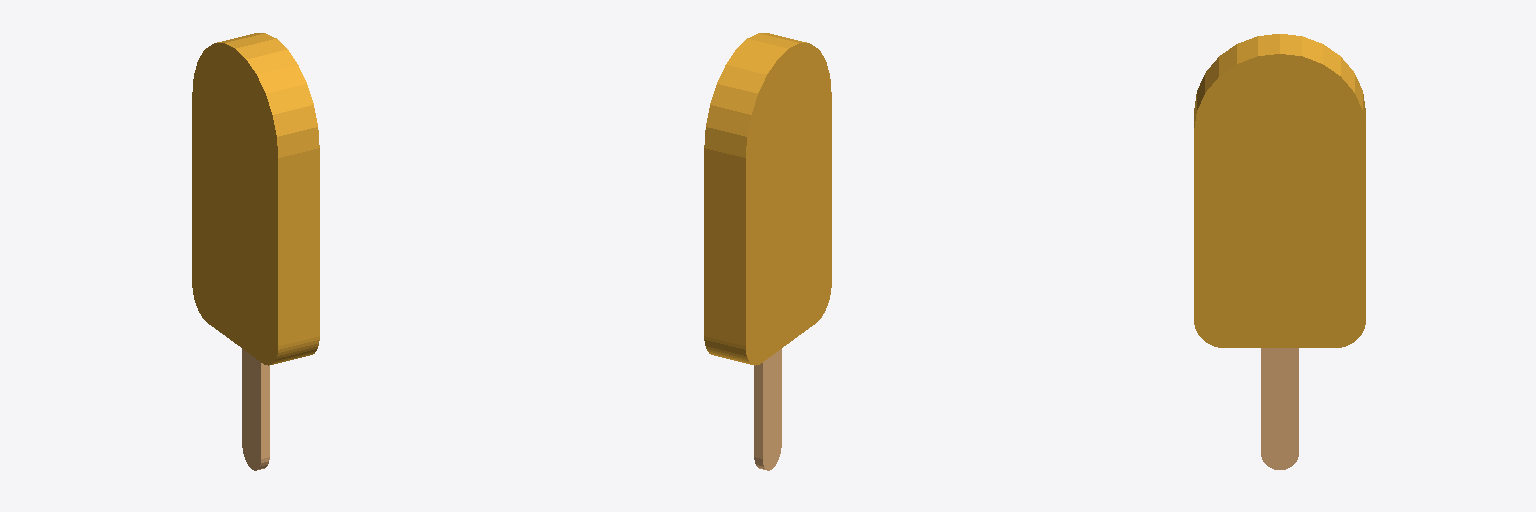
The model's file is popsicle.obj.
The picture shows the model from 3 angles: view 1: azimuth 30°, elevation 25°; view 2: azimuth 150°, elevation 25°; view 3: azimuth 270°, elevation 25°; orthographic projection.
Visible parts, largest first — view 1: popsicle; view 2: popsicle; view 3: popsicle.
Boxes of the visible parts, x1,y1,x2,y2 form: popsicle: [192, 33, 319, 470]; popsicle: [704, 33, 831, 470]; popsicle: [1194, 34, 1365, 469].
Bounding box in the file's own units: 0.05 × 0.49 × 0.18.